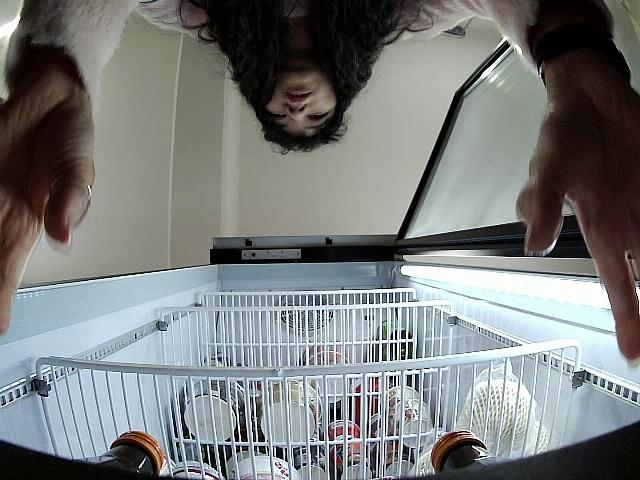00_hand: (515, 119, 640, 368), (0, 71, 96, 337)
